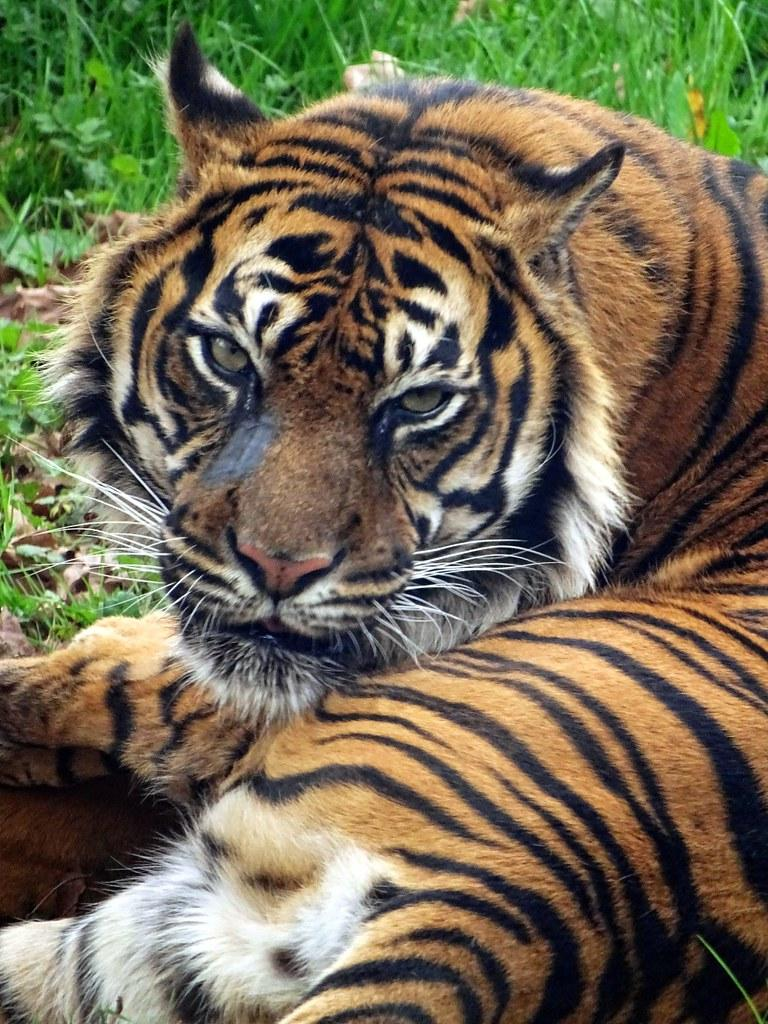tiger: (2, 20, 766, 1022)
